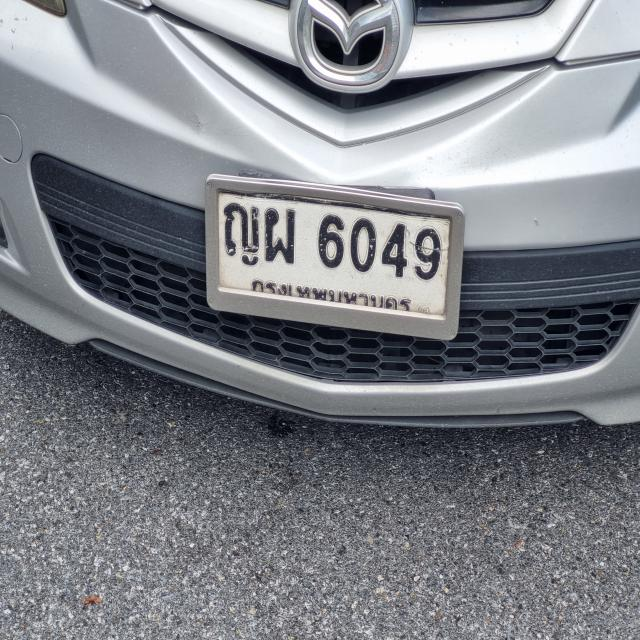license_plate: (200, 165, 465, 348)
